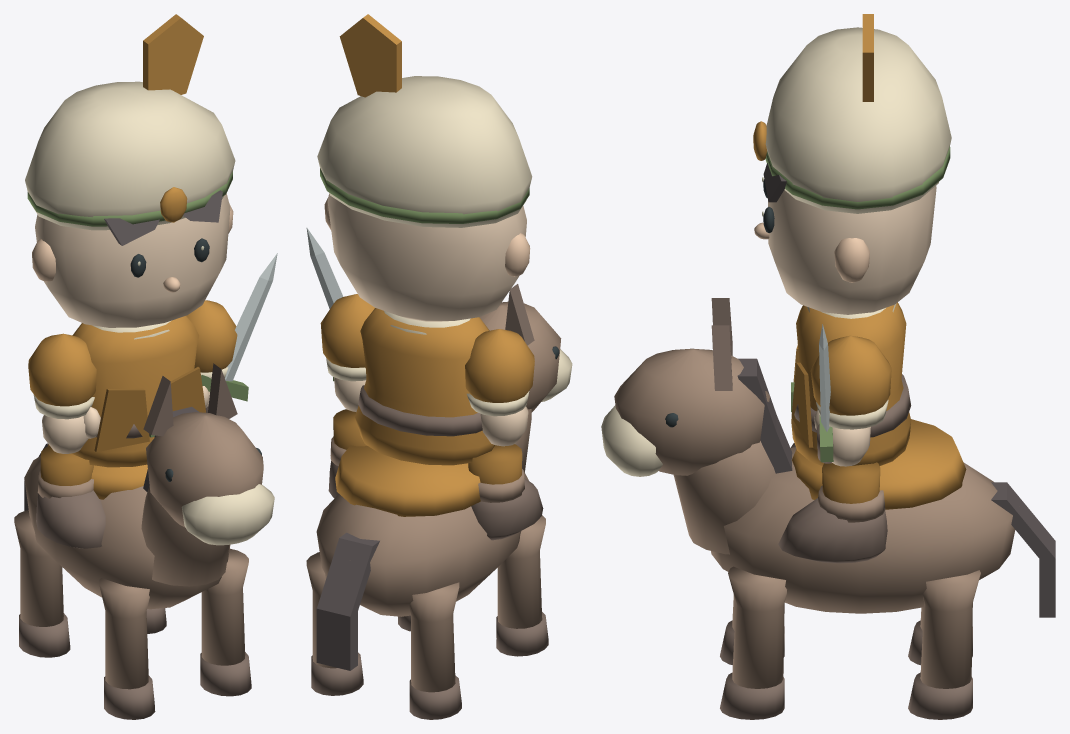
Rendered from rider.glb.
3 views of the same model, side by side, from view 1: azimuth 30°, elevation 25°; view 2: azimuth 150°, elevation 25°; view 3: azimuth 270°, elevation 25° (orthographic). The views are drawn at different scales.
Visible parts, largest first — view 1: Layered cloth turban, Soft cheek head, Pony head, Short folded tunic, Plump pony body, Pony neck, Pony stubby leg, Pony stubby leg.001, Puff sleeve, Pony muzzle, Pony stubby leg.002, Turban fan (+23 smaller); view 2: Layered cloth turban, Soft cheek head, Short folded tunic, Plump pony body, Saddle blanket, Pony tail, Pony stubby leg.002, Puff sleeve, Pony stubby leg, Turban fan, Puff sleeve.001, Pony head (+19 smaller); view 3: Layered cloth turban, Plump pony body, Soft cheek head, Pony head, Short folded tunic, Pony neck, Saddle blanket, Pony stubby leg.001, Pony stubby leg.003, Puff sleeve.001, Round leather boot.001, Pony tail (+15 smaller).
Part boxes in pixels (bbox=[...]): Layered cloth turban: bbox=[25, 81, 235, 230]; Soft cheek head: bbox=[35, 193, 230, 327]; Pony head: bbox=[146, 412, 263, 527]; Short folded tunic: bbox=[71, 315, 199, 467]; Plump pony body: bbox=[24, 456, 230, 609]; Pony neck: bbox=[141, 486, 229, 586]; Pony stubby leg: bbox=[99, 578, 149, 689]; Pony stubby leg.001: bbox=[201, 548, 248, 665]; Puff sleeve: bbox=[28, 333, 96, 406]; Pony muzzle: bbox=[181, 484, 274, 545]; Pony stubby leg.002: bbox=[14, 510, 63, 626]; Turban fan: bbox=[143, 14, 203, 94]; Layered cloth turban: bbox=[317, 76, 532, 227]; Soft cheek head: bbox=[327, 194, 526, 321]; Short folded tunic: bbox=[355, 308, 494, 465]; Plump pony body: bbox=[316, 471, 528, 616]; Saddle blanket: bbox=[335, 445, 480, 516]; Pony tail: bbox=[316, 532, 379, 670]; Pony stubby leg.002: bbox=[409, 582, 459, 692]; Puff sleeve: bbox=[465, 329, 534, 402]; Pony stubby leg: bbox=[497, 515, 545, 628]; Turban fan: bbox=[339, 14, 401, 97]; Puff sleeve.001: bbox=[320, 294, 374, 367]; Pony head: bbox=[479, 301, 561, 412]; Layered cloth turban: bbox=[765, 27, 951, 213]; Plump pony body: bbox=[711, 447, 1015, 613]; Soft cheek head: bbox=[768, 186, 936, 314]; Pony head: bbox=[614, 348, 769, 475]; Short folded tunic: bbox=[791, 302, 911, 465]; Pony neck: bbox=[673, 441, 775, 554]; Saddle blanket: bbox=[792, 419, 966, 509]; Pony stubby leg.001: bbox=[728, 566, 786, 688]; Pony stubby leg.003: bbox=[920, 570, 980, 688]; Puff sleeve.001: bbox=[810, 335, 891, 415]; Round leather boot.001: bbox=[778, 498, 887, 563]; Pony tail: bbox=[991, 482, 1055, 617].
Size of the model in its own units: 0.9142 by 2.37 by 1.4.
